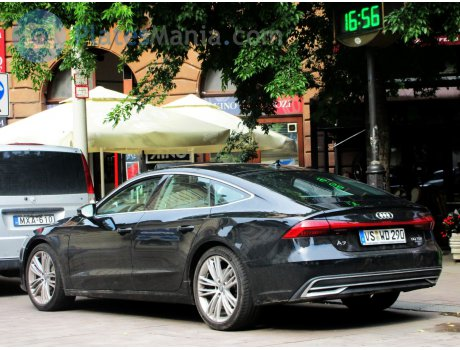License Plates: (362, 227, 404, 240)
